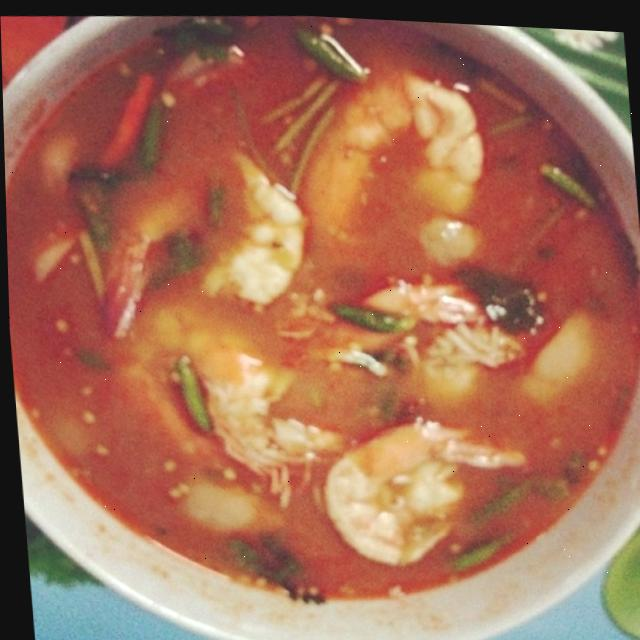汤锅炖物: (58, 21, 581, 571)
